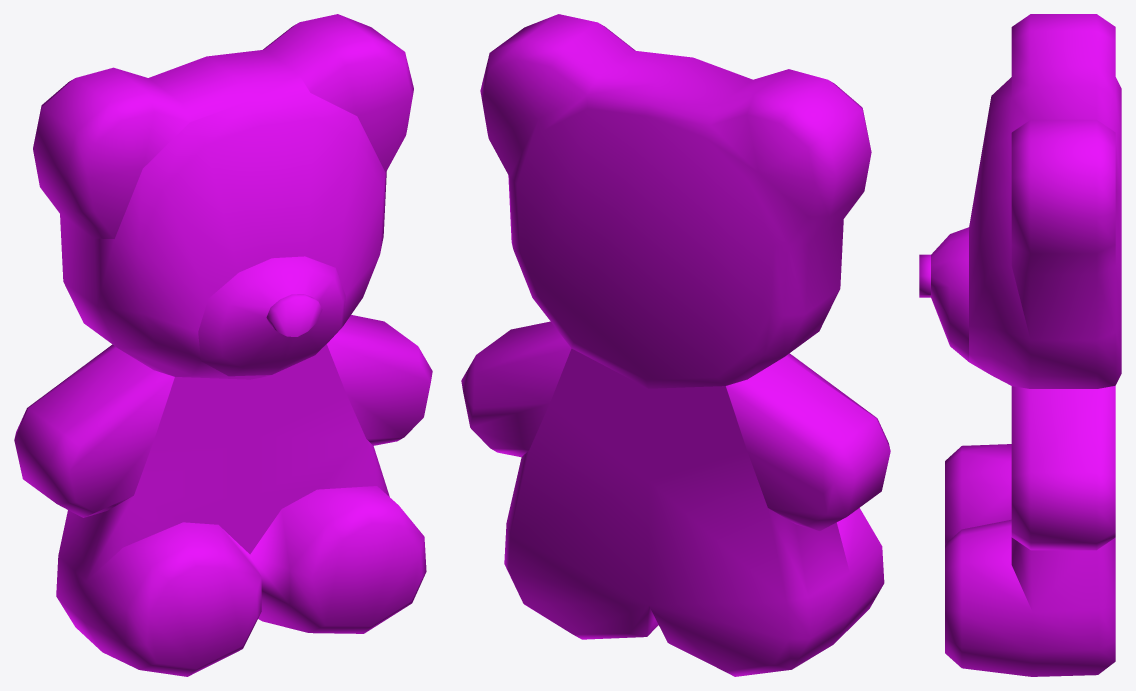
File: Jelly_4.FBX
The picture shows the model from 3 angles, left to right: view 1: azimuth 30°, elevation 25°; view 2: azimuth 150°, elevation 25°; view 3: azimuth 270°, elevation 25°; orthographic projection. The views are drawn at different scales.
Visible parts, largest first — view 1: Jelly4; view 2: Jelly4; view 3: Jelly4.
Part boxes in pixels (x1,y1,x2,y2): Jelly4: [14, 14, 432, 676]; Jelly4: [461, 14, 890, 676]; Jelly4: [919, 14, 1121, 676].
Size of the model in its own units: 16.57 by 23.56 by 7.73.
